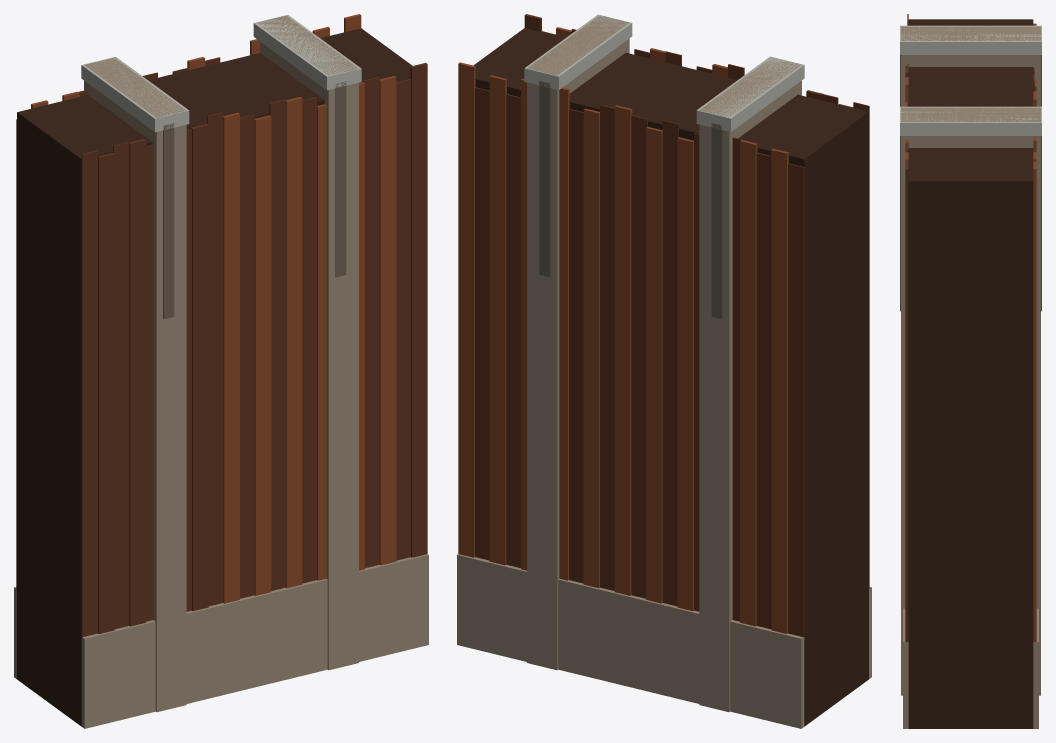
File: fort_compound_wall.glb
3 views of the same model, side by side, from view 1: azimuth 30°, elevation 25°; view 2: azimuth 150°, elevation 25°; view 3: azimuth 270°, elevation 25° (orthographic). The views are drawn at different scales.
Parts seen in each view (by area): view 1: fort_compound_wall; view 2: fort_compound_wall; view 3: fort_compound_wall.
Part boxes in pixels (x1=…): fort_compound_wall: x1=14, y1=14, x2=428, y2=728; fort_compound_wall: x1=457, y1=14, x2=871, y2=728; fort_compound_wall: x1=900, y1=14, x2=1041, y2=728.
Size of the model in its own units: 8 by 13.2 by 2.96.
